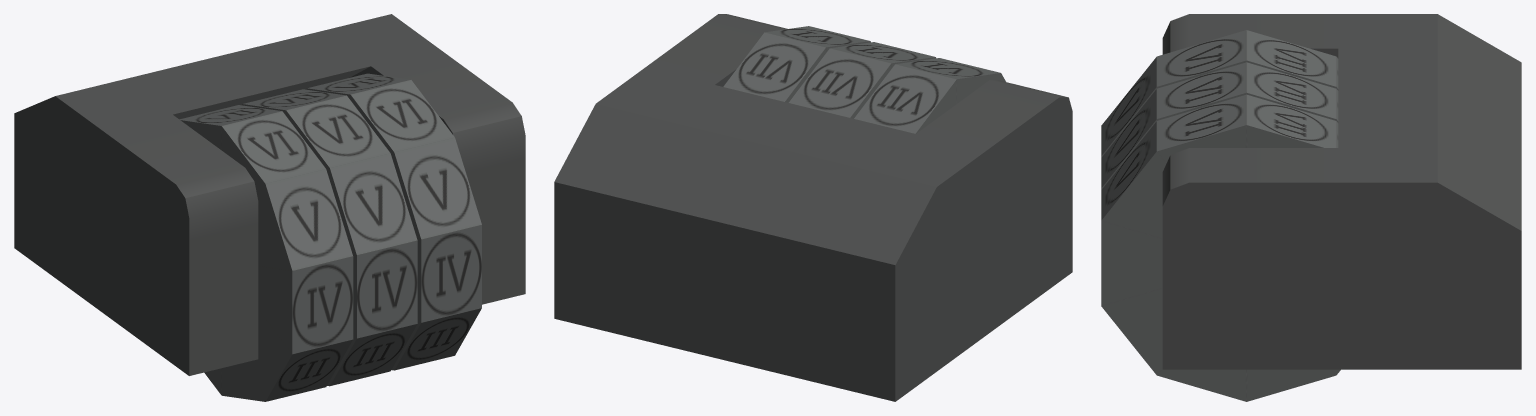
Rendered from Padlock.fbx.
The picture shows the model from 3 angles, left to right: view 1: azimuth 30°, elevation 25°; view 2: azimuth 150°, elevation 25°; view 3: azimuth 270°, elevation 25°; orthographic projection. The views are drawn at different scales.
Visible parts, largest first — view 1: PadlockContainer, PadlockCylinder, PadlockCylinder2, PadlockCylinder1; view 2: PadlockContainer, PadlockCylinder, PadlockCylinder2, PadlockCylinder1; view 3: PadlockContainer, PadlockCylinder2, PadlockCylinder1, PadlockCylinder.
Boxes of the visible parts, x1=… form: PadlockContainer: x1=14, y1=14, x2=525, y2=375; PadlockCylinder: x1=179, y1=105, x2=353, y2=401; PadlockCylinder2: x1=306, y1=73, x2=481, y2=370; PadlockCylinder1: x1=242, y1=89, x2=417, y2=386; PadlockContainer: x1=554, y1=14, x2=1072, y2=401; PadlockCylinder: x1=854, y1=58, x2=1005, y2=133; PadlockCylinder2: x1=723, y1=26, x2=870, y2=102; PadlockCylinder1: x1=788, y1=42, x2=935, y2=118; PadlockContainer: x1=1162, y1=14, x2=1521, y2=369; PadlockCylinder2: x1=1101, y1=94, x2=1340, y2=401; PadlockCylinder1: x1=1101, y1=62, x2=1338, y2=189; PadlockCylinder: x1=1101, y1=30, x2=1338, y2=157.
Size of the model in its own units: 2.61 by 2 by 2.75.
2 materials, 1 textured.
